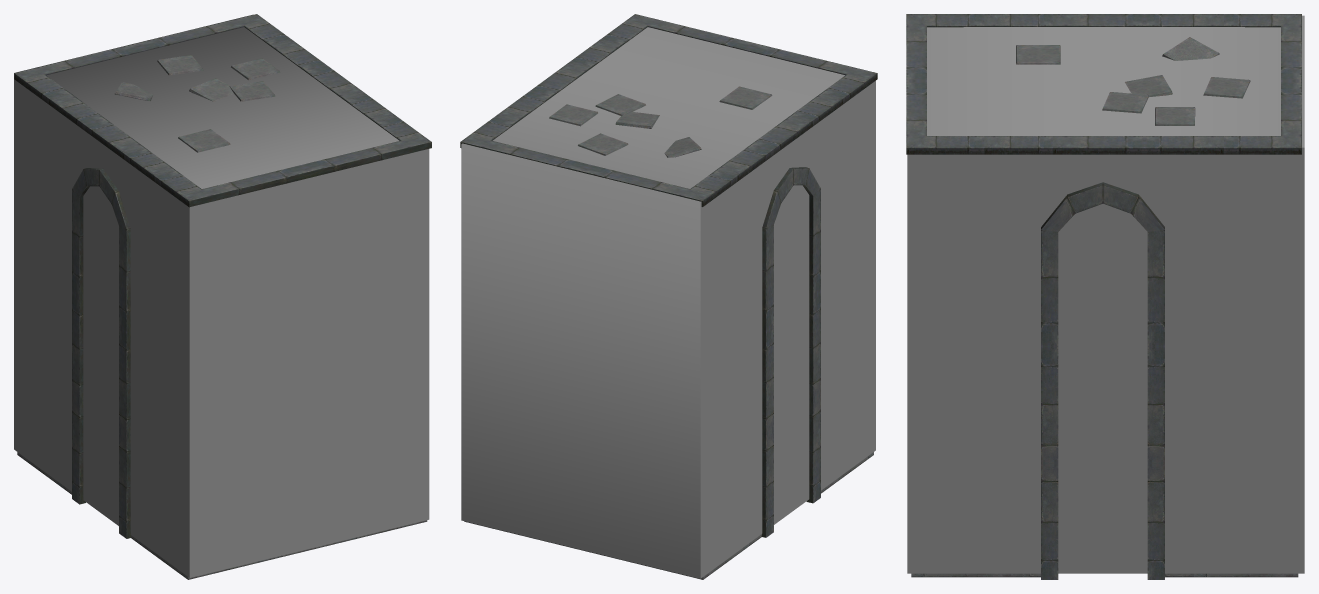
The picture shows the model from 3 angles, left to right: view 1: azimuth 30°, elevation 25°; view 2: azimuth 150°, elevation 25°; view 3: azimuth 270°, elevation 25°; orthographic projection. The views are drawn at different scales.
Parts seen in each view (by area): view 1: Scene_Object_Di_8_Xzm, Scene_Object_Di_8; view 2: Scene_Object_Di_8_Xzm, Scene_Object_Di_8; view 3: Scene_Object_Di_8_Xzm, Scene_Object_Di_8.
Boxes of the visible parts, box(x1,y1,x2,y2) form: Scene_Object_Di_8_Xzm: box(14, 14, 429, 577); Scene_Object_Di_8: box(14, 14, 431, 579); Scene_Object_Di_8_Xzm: box(461, 27, 875, 578); Scene_Object_Di_8: box(460, 14, 877, 579); Scene_Object_Di_8_Xzm: box(907, 15, 1304, 573); Scene_Object_Di_8: box(906, 14, 1301, 579).
Size of the model in its own units: 1249 by 1855 by 1536.
